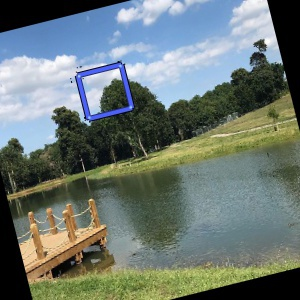square: (71, 58, 139, 123)
